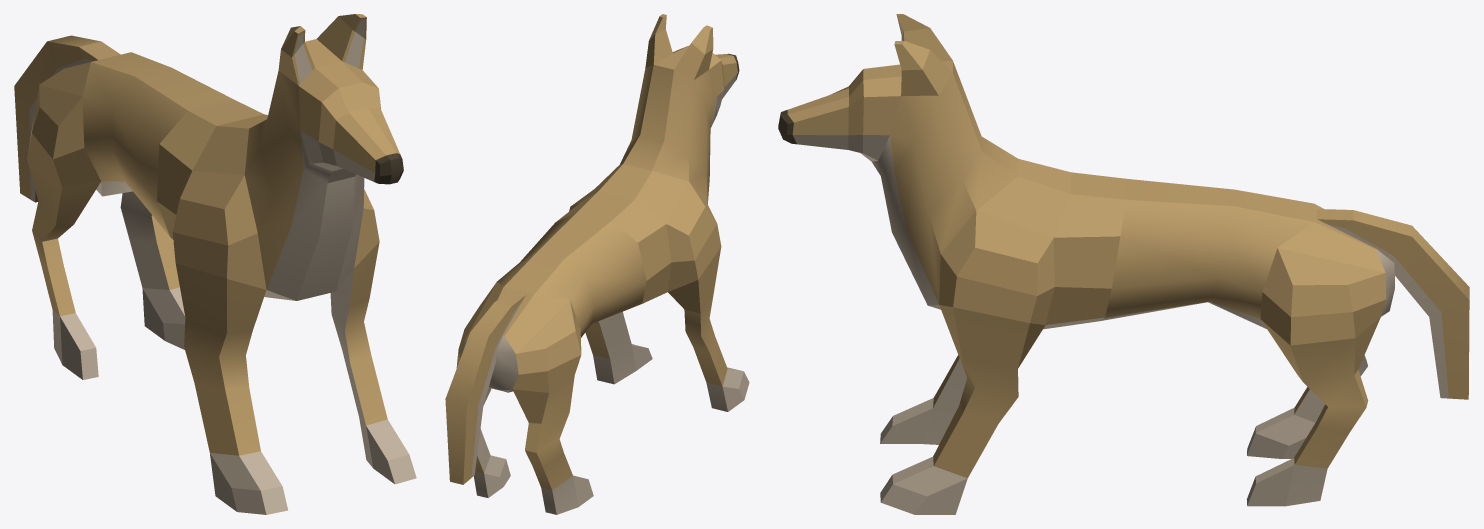
Rendered from Dingo.fbx.
The picture shows the model from 3 angles, left to right: view 1: azimuth 30°, elevation 25°; view 2: azimuth 150°, elevation 25°; view 3: azimuth 270°, elevation 25°; orthographic projection. The views are drawn at different scales.
Parts seen in each view (by area): view 1: Dingo; view 2: Dingo; view 3: Dingo.
Part boxes in pixels (x1,y1,x2,y2): Dingo: [14, 14, 416, 514]; Dingo: [445, 14, 749, 514]; Dingo: [778, 14, 1469, 514].
Size of the model in its own units: 2.23 by 5.88 by 8.18.
